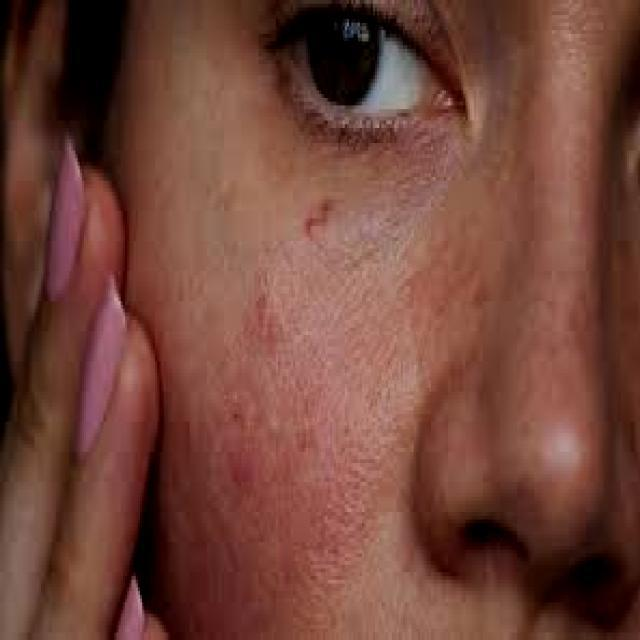Rosacea: (195, 190, 378, 640)
